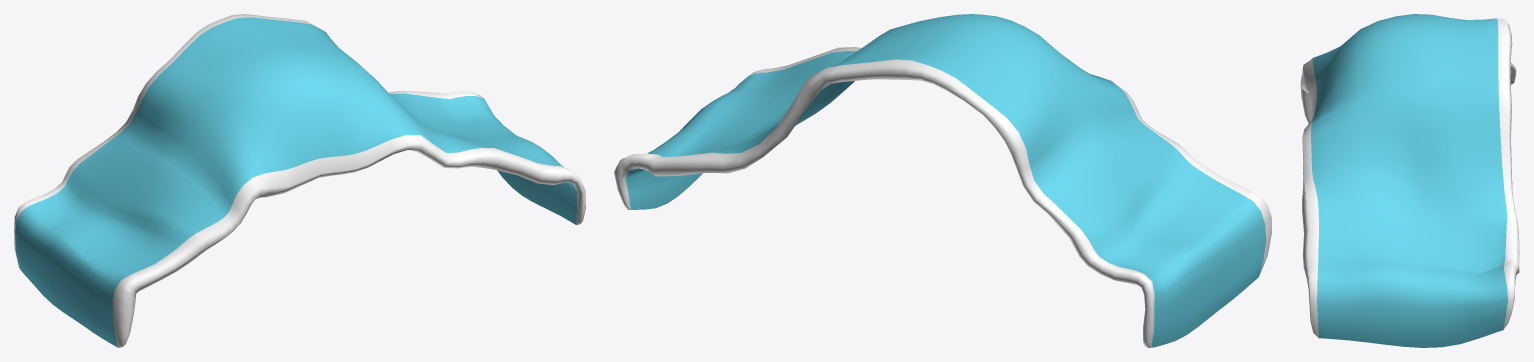
Rendered from Blenket.fbx.
The picture shows the model from 3 angles, left to right: view 1: azimuth 30°, elevation 25°; view 2: azimuth 150°, elevation 25°; view 3: azimuth 270°, elevation 25°; orthographic projection. The views are drawn at different scales.
Visible parts, largest first — view 1: pPlane1; view 2: pPlane1; view 3: pPlane1.
Part boxes in pixels (<box>): pPlane1: <box>14,14,585,347</box>; pPlane1: <box>614,14,1271,347</box>; pPlane1: <box>1300,14,1519,347</box>.
Size of the model in its own units: 640 by 274 by 265.
Materials: 1 (1 with a texture image).
